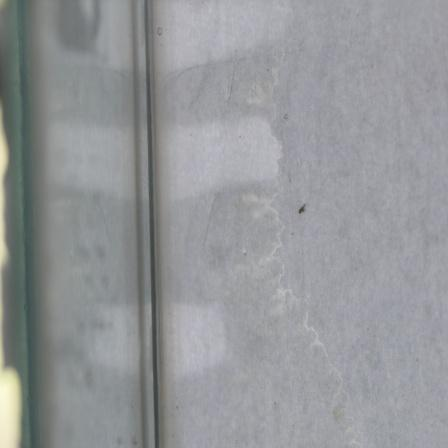Jentik-Nyamuk: (292, 198, 310, 218)
